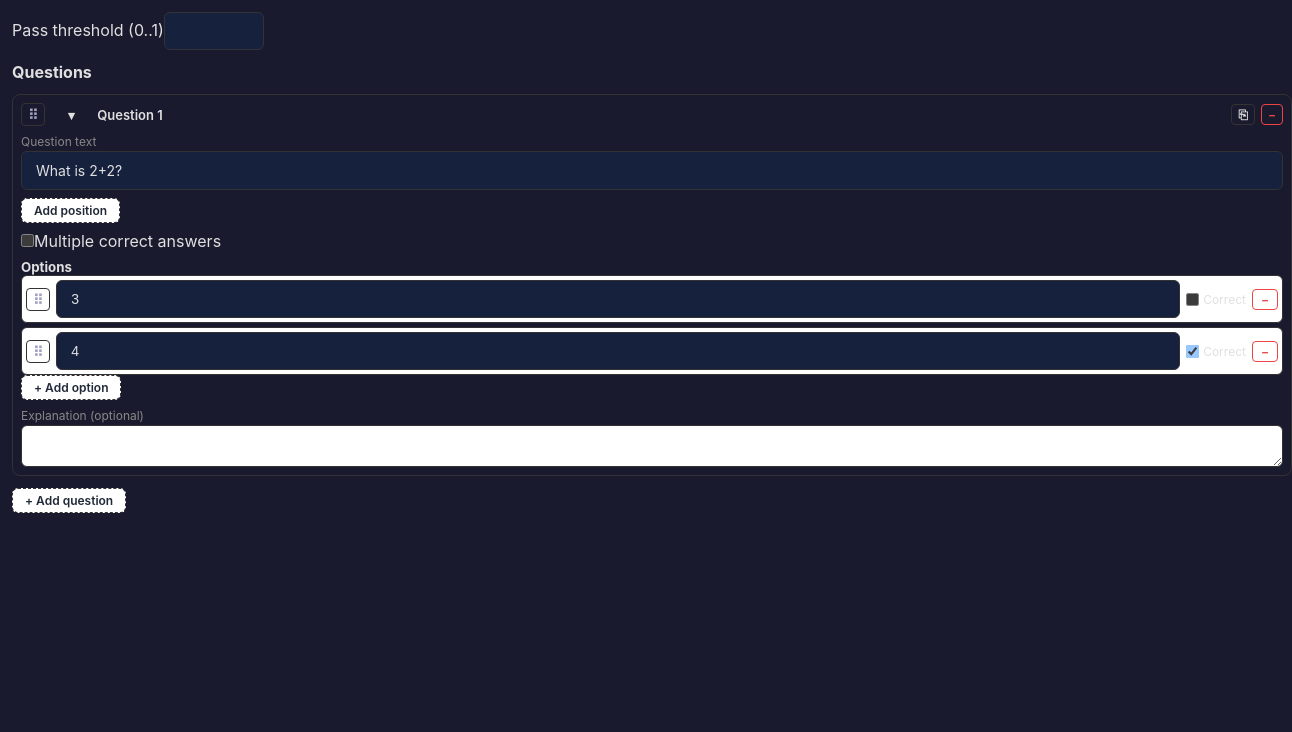
Test: <QuizStepEditor> KS-2573 › collapse-toggle сворачивает body вопроса
Expected: the field with test id "quiz-question-prompt-0" is shown, [21, 151, 1283, 190]
Click the button with test id "quiz-question-toggle-0".
click(71, 114)  # box [51, 104, 91, 126]
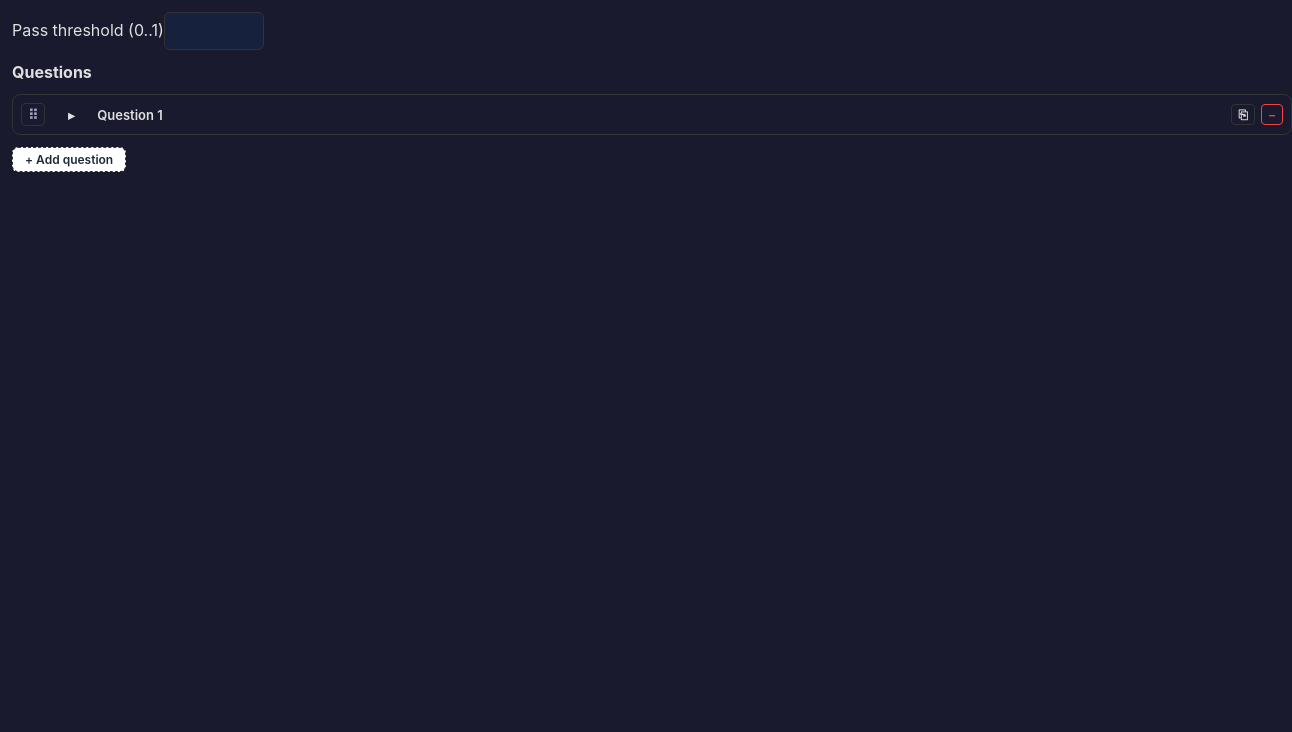
Result: the field with test id "quiz-question-prompt-0" is gone
